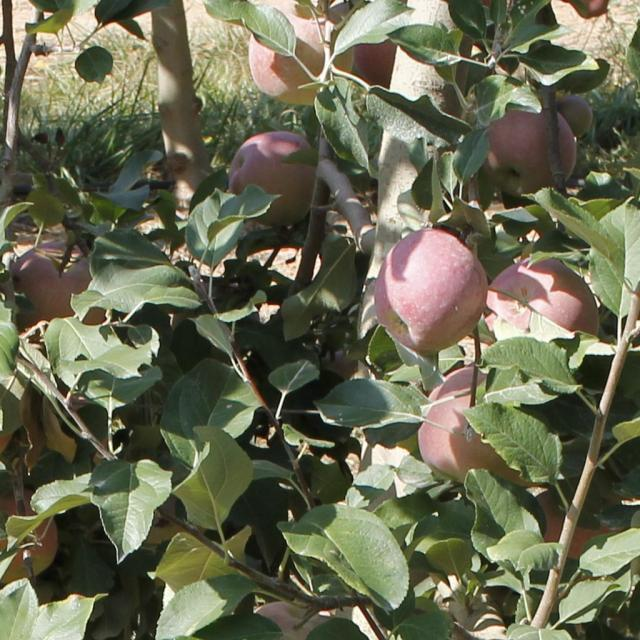Rotten Apple: (418, 364, 538, 487), (374, 228, 489, 353), (249, 2, 353, 106), (484, 256, 599, 334), (10, 239, 105, 333), (230, 130, 316, 226), (483, 110, 575, 197), (532, 487, 613, 558), (1, 488, 57, 582), (254, 600, 330, 640), (354, 37, 397, 87), (556, 94, 591, 137), (0, 433, 12, 452)
